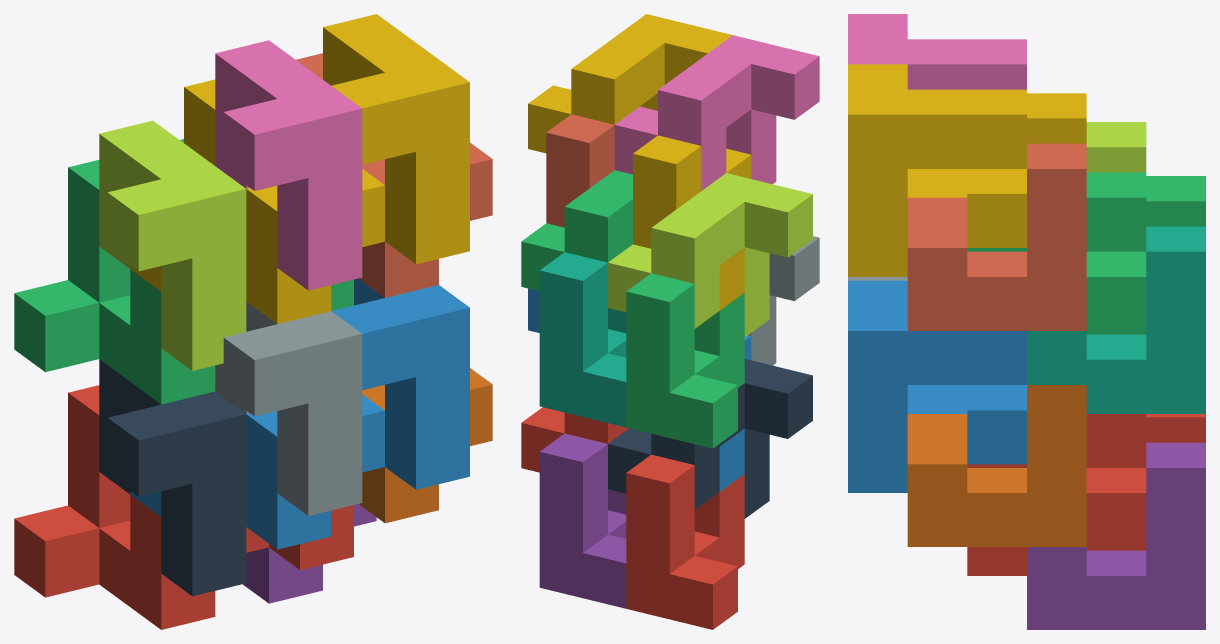
File: tiling.obj
3 views of the same model, side by side, from view 1: azimuth 30°, elevation 25°; view 2: azimuth 150°, elevation 25°; view 3: azimuth 270°, elevation 25° (orthographic). The views are drawn at different scales.
Visible parts, largest first — view 1: copy_2_domain_4, copy_2_domain_3, copy_2_domain_8, copy_2_domain_1, copy_2_domain_2, copy_1_domain_1, copy_1_domain_3, copy_2_domain_6, copy_1_domain_4, copy_1_domain_2, copy_1_domain_8, copy_1_domain_6 (+2 smaller); view 2: copy_2_domain_4, copy_1_domain_3, copy_1_domain_1, copy_2_domain_3, copy_1_domain_7, copy_1_domain_5, copy_2_domain_8, copy_2_domain_1, copy_1_domain_4, copy_2_domain_7, copy_1_domain_8, copy_2_domain_2 (+3 smaller); view 3: copy_2_domain_8, copy_1_domain_8, copy_2_domain_6, copy_1_domain_6, copy_1_domain_5, copy_1_domain_7, copy_2_domain_5, copy_2_domain_7, copy_2_domain_4, copy_1_domain_4, copy_1_domain_3, copy_2_domain_3 (+2 smaller).
Boxes of the visible parts, left/top/right/bottom form: copy_2_domain_4: left=215, top=40, right=362, bottom=290; copy_2_domain_3: left=99, top=120, right=246, bottom=370; copy_2_domain_8: left=323, top=14, right=469, bottom=264; copy_2_domain_1: left=99, top=359, right=246, bottom=596; copy_2_domain_2: left=215, top=302, right=362, bottom=515; copy_1_domain_1: left=14, top=385, right=268, bottom=629; copy_1_domain_3: left=14, top=160, right=215, bottom=404; copy_2_domain_6: left=331, top=278, right=469, bottom=489; copy_1_domain_4: left=130, top=79, right=384, bottom=324; copy_1_domain_2: left=130, top=394, right=384, bottom=549; copy_1_domain_8: left=296, top=53, right=492, bottom=297; copy_1_domain_6: left=359, top=368, right=492, bottom=523; copy_2_domain_4: left=614, top=35, right=819, bottom=190; copy_1_domain_3: left=626, top=273, right=744, bottom=448; copy_1_domain_1: left=626, top=454, right=744, bottom=629; copy_2_domain_3: left=608, top=173, right=812, bottom=337; copy_1_domain_7: left=539, top=252, right=626, bottom=427; copy_1_domain_5: left=539, top=433, right=626, bottom=608; copy_2_domain_8: left=528, top=14, right=732, bottom=153; copy_2_domain_1: left=608, top=359, right=812, bottom=518; copy_1_domain_4: left=633, top=135, right=751, bottom=310; copy_2_domain_7: left=521, top=170, right=632, bottom=291; copy_1_domain_8: left=546, top=114, right=614, bottom=227; copy_2_domain_2: left=748, top=236, right=819, bottom=365; copy_2_domain_8: left=848, top=64, right=1026, bottom=276; copy_1_domain_8: left=907, top=143, right=1086, bottom=330; copy_2_domain_6: left=848, top=280, right=1026, bottom=492; copy_1_domain_6: left=907, top=385, right=1086, bottom=546; copy_1_domain_5: left=1027, top=442, right=1205, bottom=629; copy_1_domain_7: left=1027, top=226, right=1205, bottom=413; copy_2_domain_5: left=967, top=414, right=1146, bottom=575; copy_2_domain_7: left=967, top=172, right=1146, bottom=330; copy_2_domain_4: left=848, top=14, right=1026, bottom=89; copy_1_domain_4: left=907, top=93, right=1086, bottom=197; copy_1_domain_3: left=1086, top=176, right=1205, bottom=334; copy_2_domain_3: left=1086, top=122, right=1146, bottom=172.
Bounding box in the file's own units: 6 × 10 × 6.
